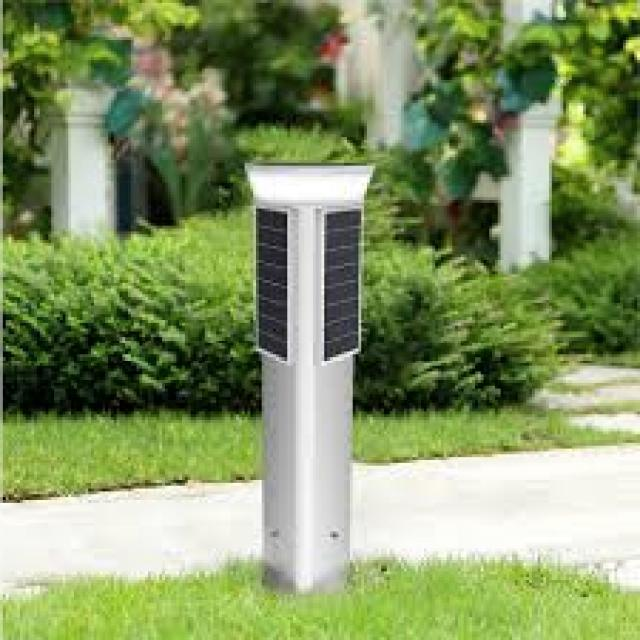bollard: (231, 149, 393, 624)
